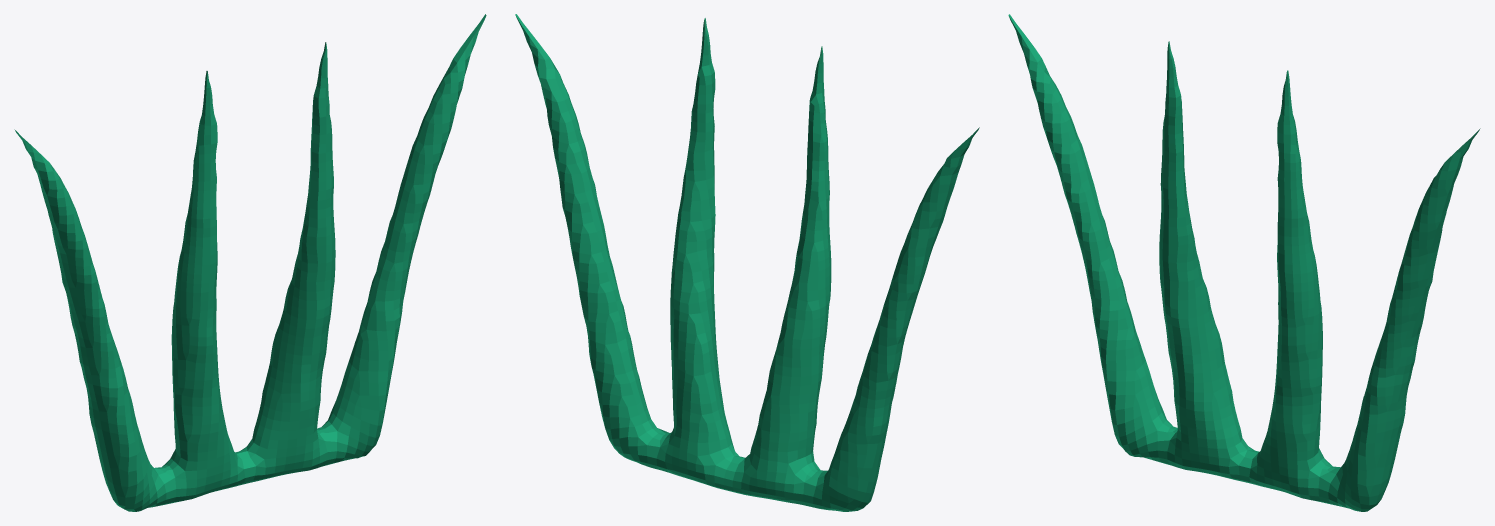
File: grass_clump.fbx
3 renders of one model, left to right at view 1: azimuth 30°, elevation 25°; view 2: azimuth 150°, elevation 25°; view 3: azimuth 330°, elevation 25°, orthographic.
Visible parts, largest first — view 1: group1; view 2: group1; view 3: group1.
Boxes of the visible parts, box(x1,y1,x2,y2) form: group1: box(14, 14, 486, 511); group1: box(515, 14, 979, 511); group1: box(1008, 14, 1480, 511).
Bounding box in the file's own units: 3.3 × 2.98 × 0.4813.
1 material, 1 textured.
